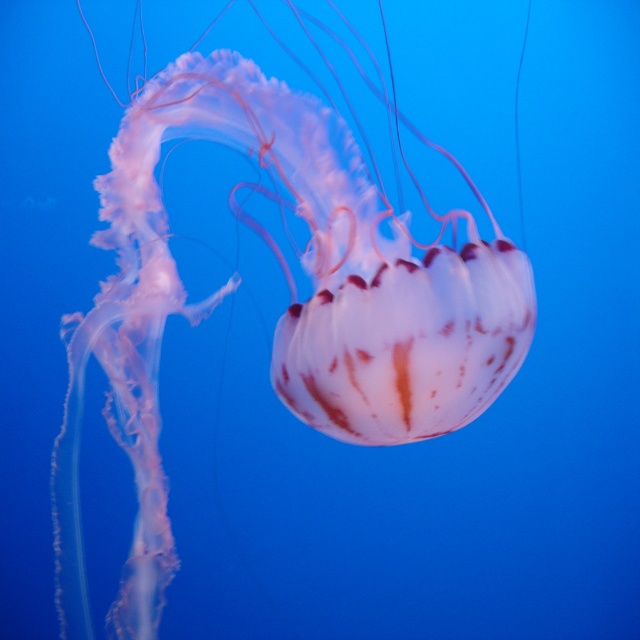Jellyfish: (48, 0, 537, 639)
